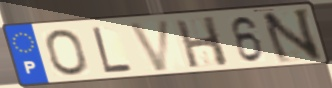6: (229, 15, 267, 63)
H: (172, 14, 232, 70)
L: (89, 25, 135, 75)
N: (259, 6, 325, 65)
O: (43, 27, 90, 77)
V: (126, 17, 173, 74)
